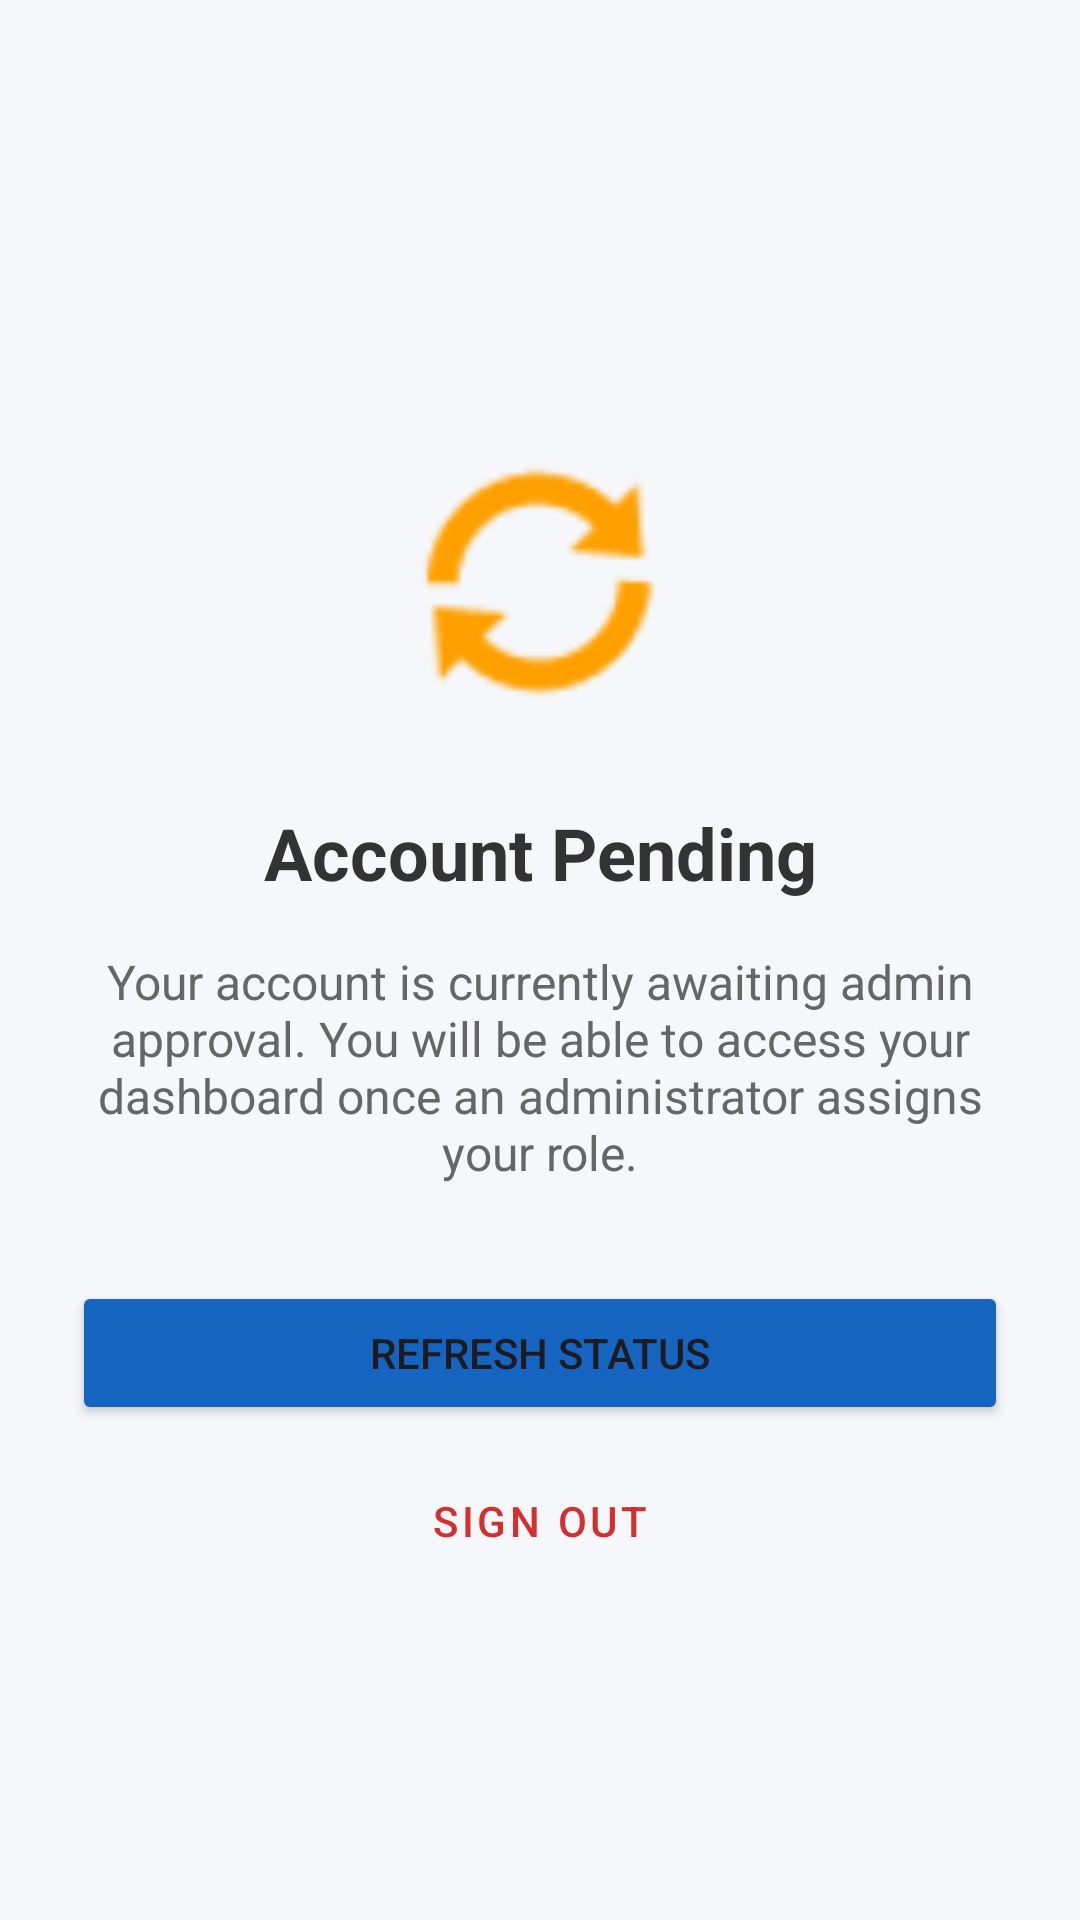

Where to tap for icons on this 1080*1920 app screen, as point (x, y):
popup sync: point (539, 582)
